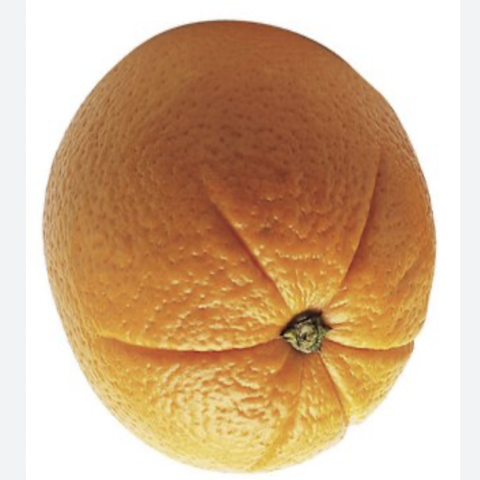orange: (29, 14, 472, 477)
